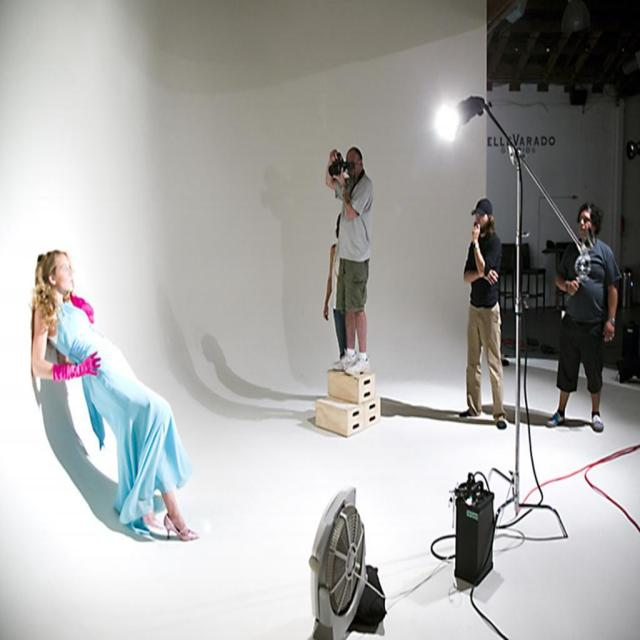nomask: (54, 255, 72, 290), (578, 210, 592, 237), (347, 153, 359, 180), (476, 208, 488, 230)
